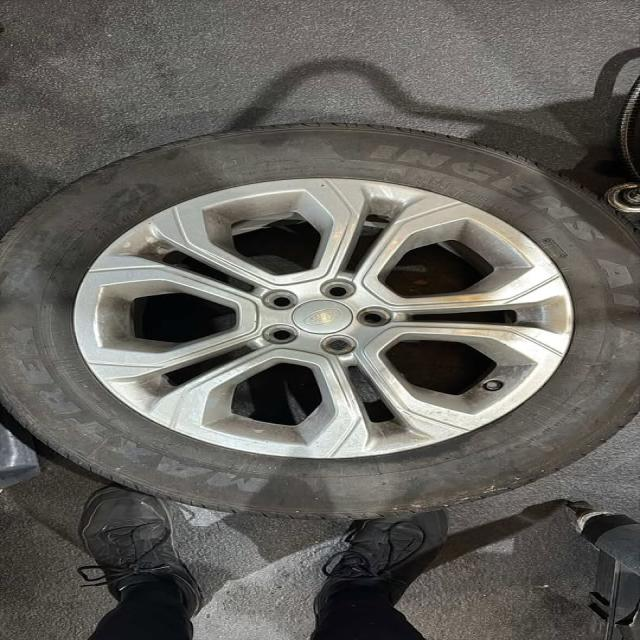jante: (74, 179, 574, 459)
roda: (0, 120, 640, 523)
